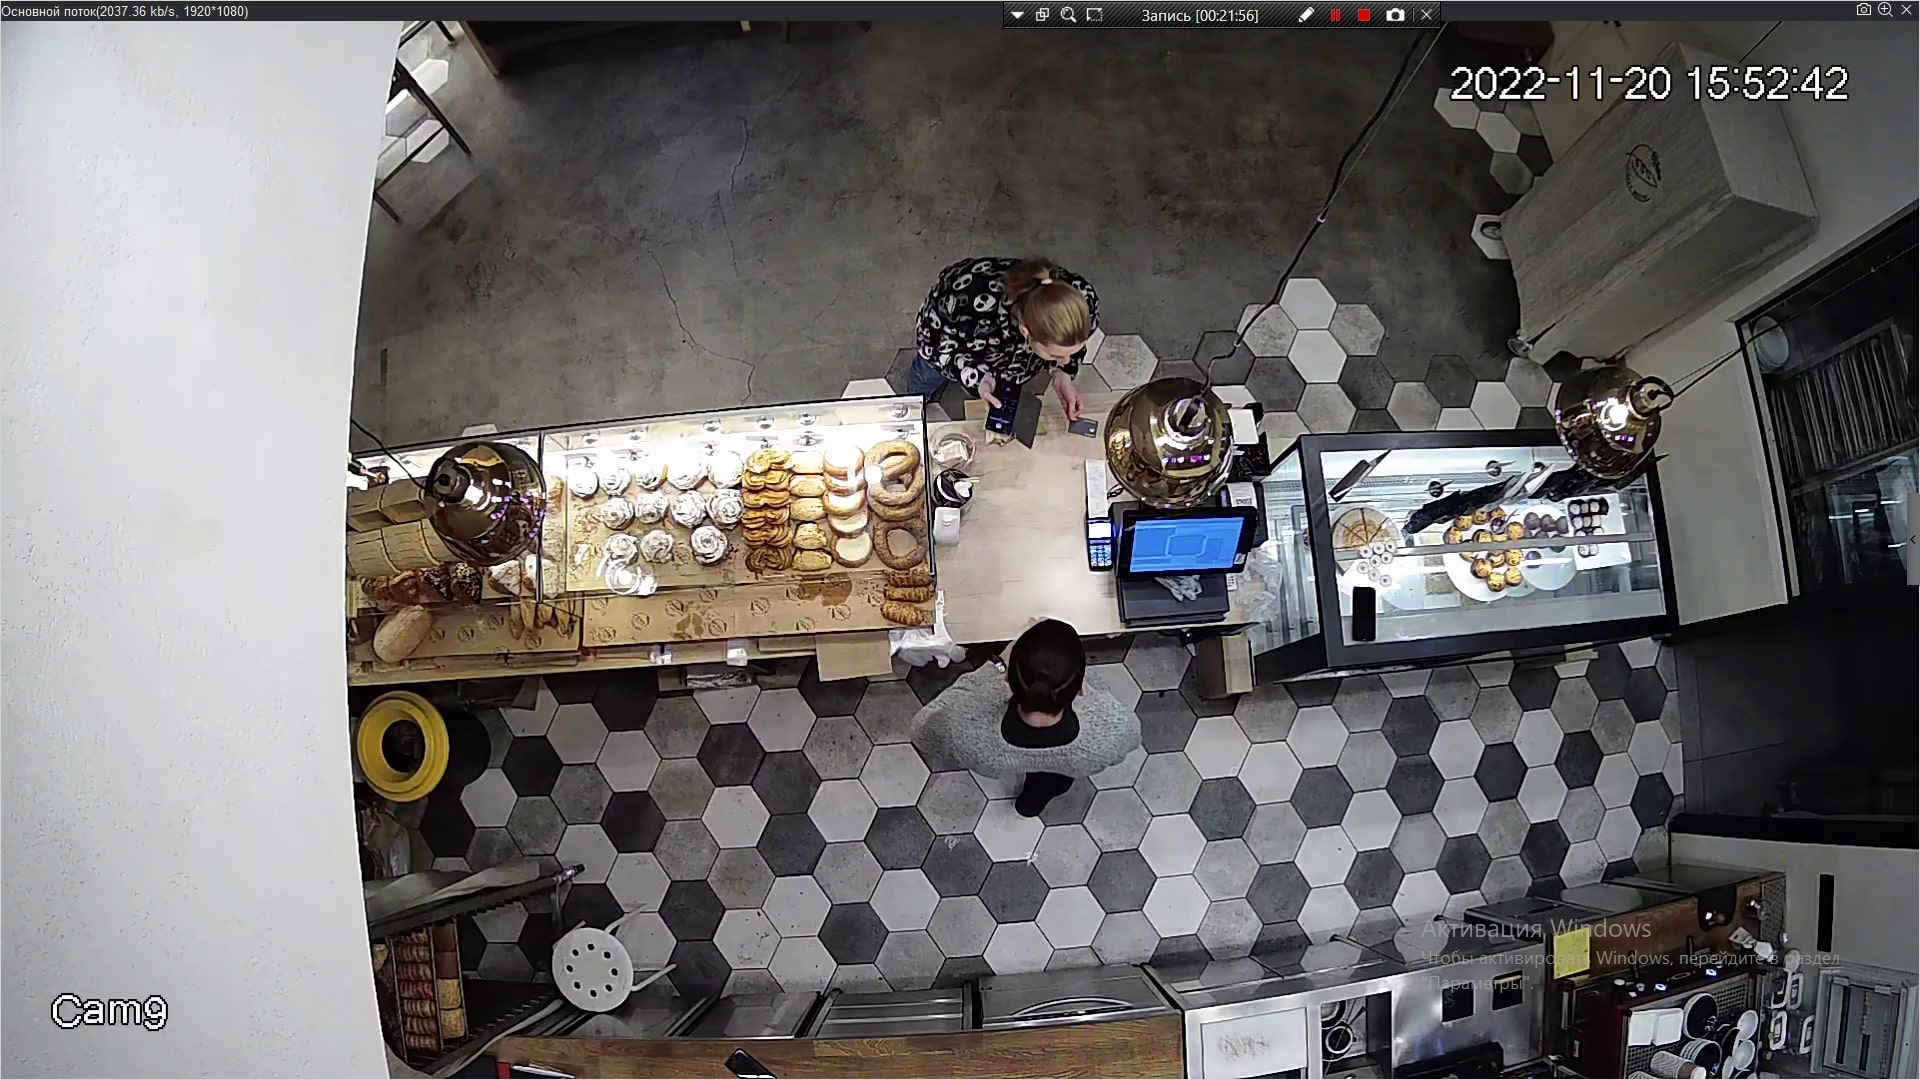barcounter: (377, 398, 1696, 677)
person: (893, 248, 1123, 436), (916, 648, 1171, 807)
